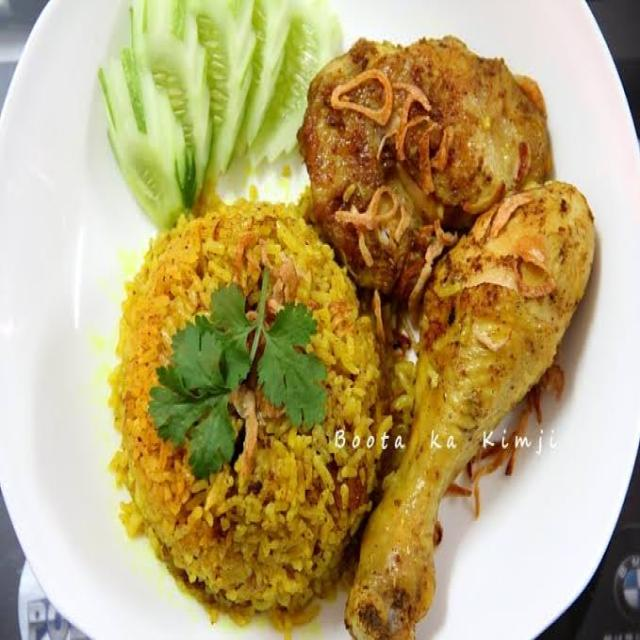carb: (147, 246, 379, 590)
chicken biryani: (94, 92, 584, 628)
meat: (323, 42, 599, 634)
vegetable: (156, 290, 332, 459)
